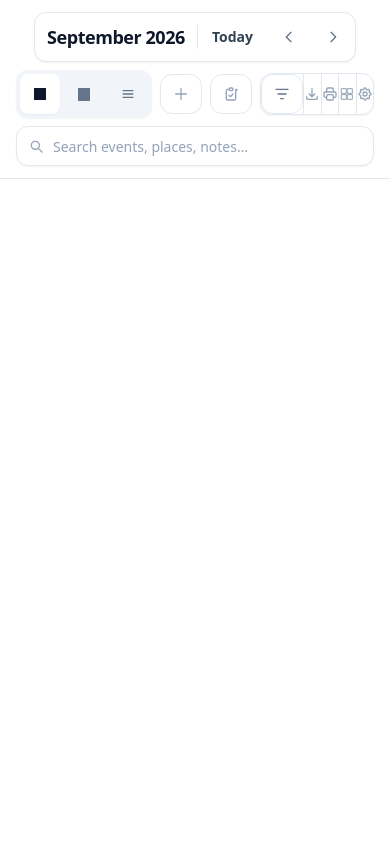
Test: CalendarToolbar calendar filter (#069) › closes on Escape and on an outside click
The width and height of the screenshot is (390, 844).
Click the button with test id "calendar-filter-trigger" at [282, 94], box [261,74,303,114]
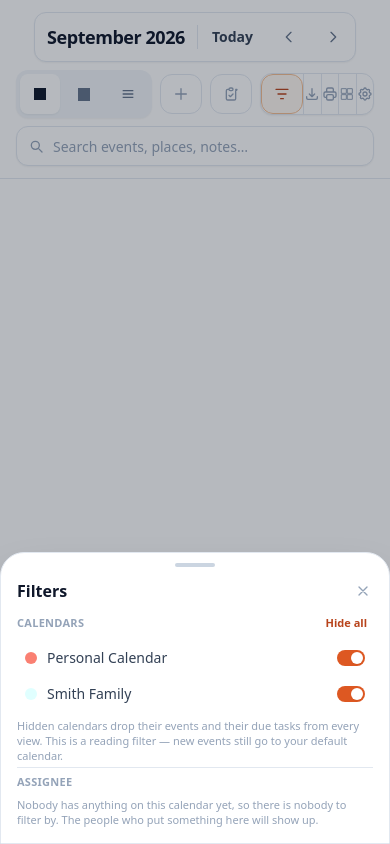
Expected: the dialog with test id "calendar-filter-panel" is shown, [0,552,389,843]
Press Escape
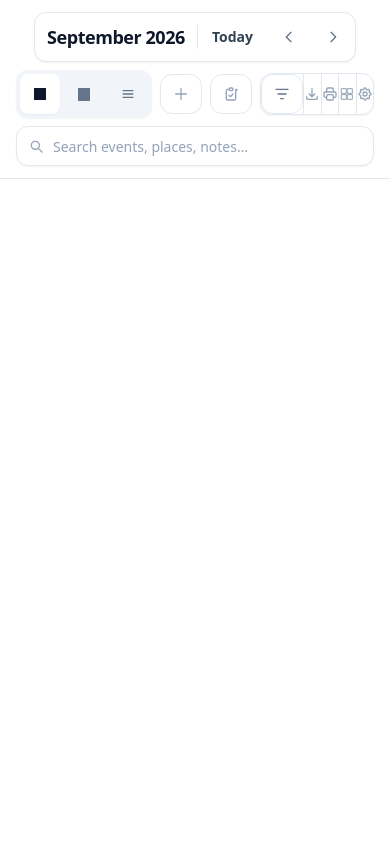
Expected: the dialog with test id "calendar-filter-panel" is gone
Click the button with test id "calendar-filter-trigger" at [282, 94], box [261,74,303,114]
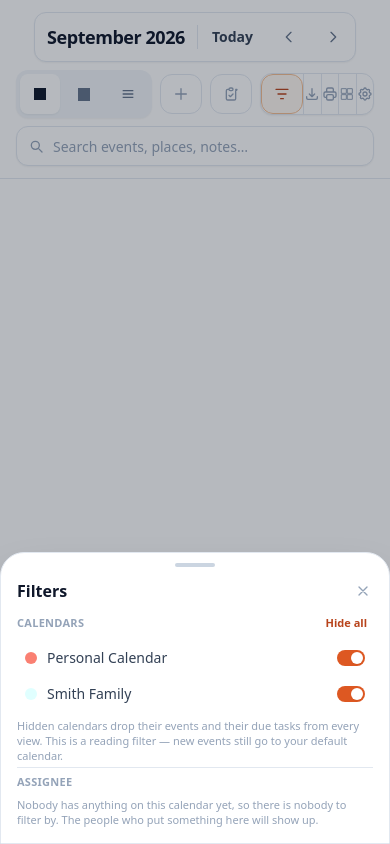
Click the element that starts with "September 2026" at [195, 90], box [0,0,389,179]
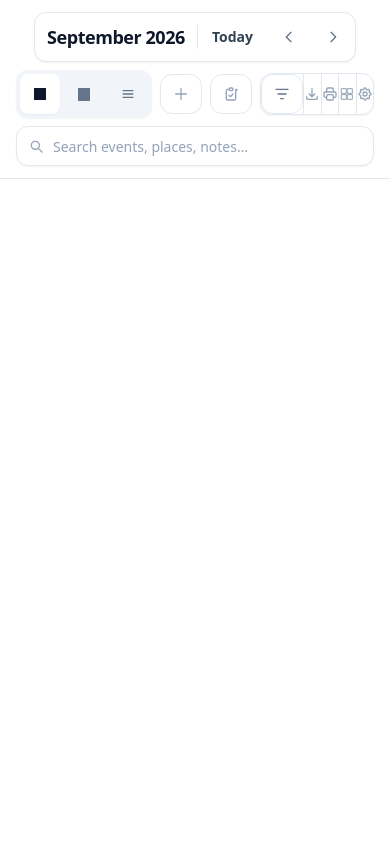
Expected: the dialog with test id "calendar-filter-panel" is gone
